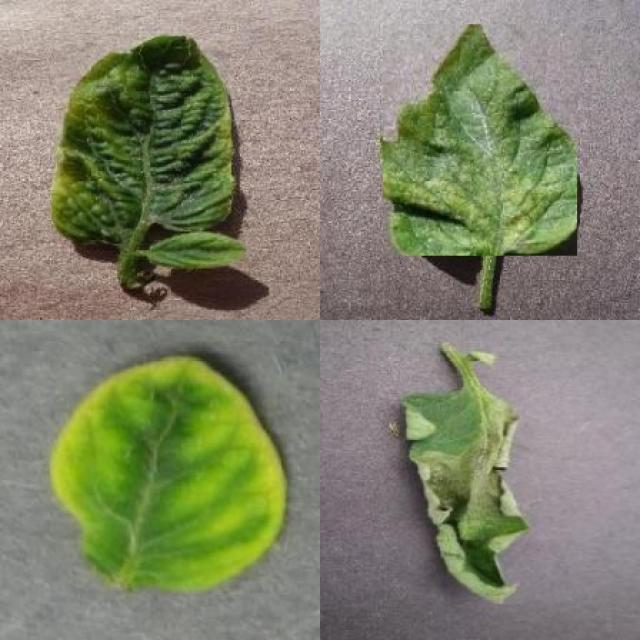Late Blight: (399, 388, 530, 605)
Spider Mites: (383, 24, 578, 256)
Yellow Leaf Curl Virus: (51, 354, 288, 594), (51, 34, 232, 245), (148, 232, 245, 268)
